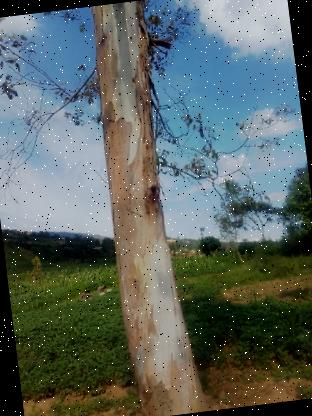tree: (77, 0, 214, 416)
